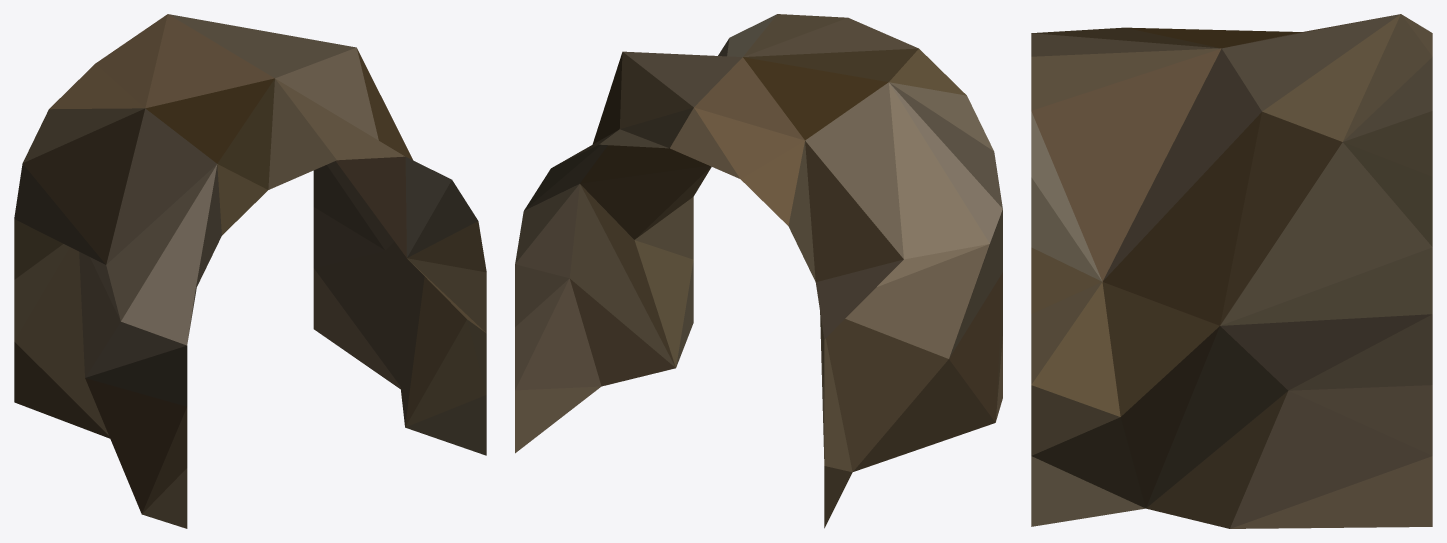
File: Cave-Hall5mB.fbx
3 renders of one model, left to right at view 1: azimuth 30°, elevation 25°; view 2: azimuth 150°, elevation 25°; view 3: azimuth 270°, elevation 25°, orthographic. The views are drawn at different scales.
Visible parts, largest first — view 1: Cave-Hall5mB; view 2: Cave-Hall5mB; view 3: Cave-Hall5mB.
Part boxes in pixels (x1,y1,x2,y2): Cave-Hall5mB: (14, 14, 486, 528); Cave-Hall5mB: (515, 14, 1002, 528); Cave-Hall5mB: (1031, 14, 1432, 528).
Size of the model in its own units: 593 by 581 by 500.
